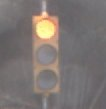Red: (26, 12, 69, 99)
